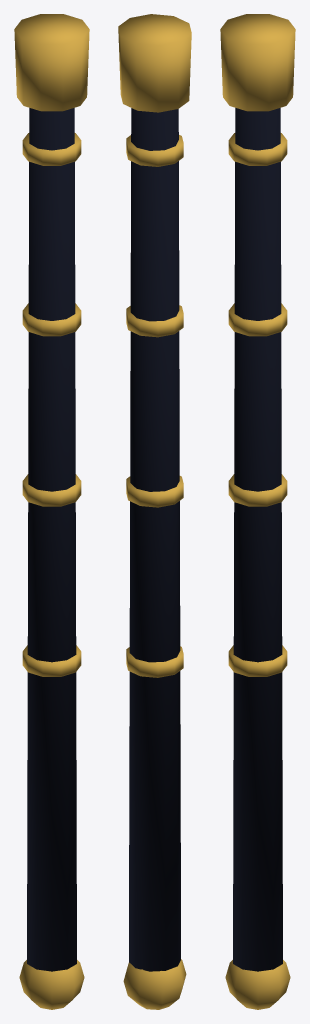
The model's file is lintel_short.glb.
3 renders of one model, left to right at view 1: azimuth 90°, elevation 25°; view 2: azimuth 150°, elevation 25°; view 3: azimuth 270°, elevation 25°, orthographic.
Parts seen in each view (by area): view 1: LintelShort; view 2: LintelShort; view 3: LintelShort.
Part boxes in pixels (x1,y1,x2,y2): LintelShort: (14,14,89,1009); LintelShort: (118,14,191,1009); LintelShort: (220,14,295,1009).
Size of the model in its own units: 0.0571 by 0.8575 by 0.06.
